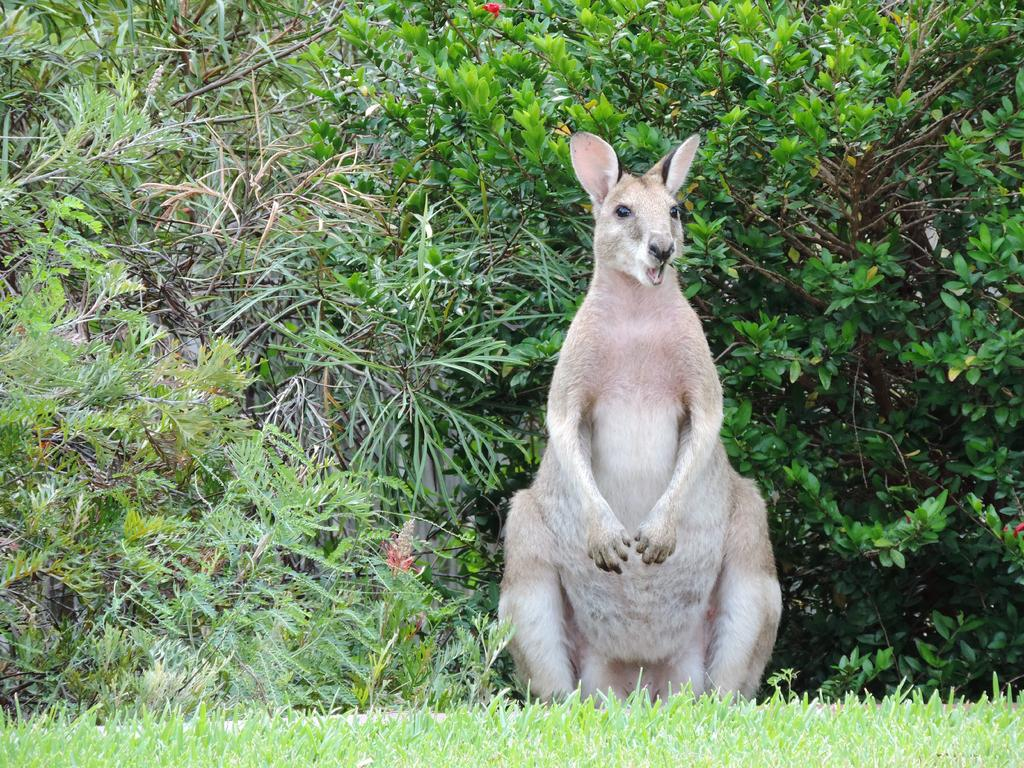kangaroo: (492, 128, 782, 704)
